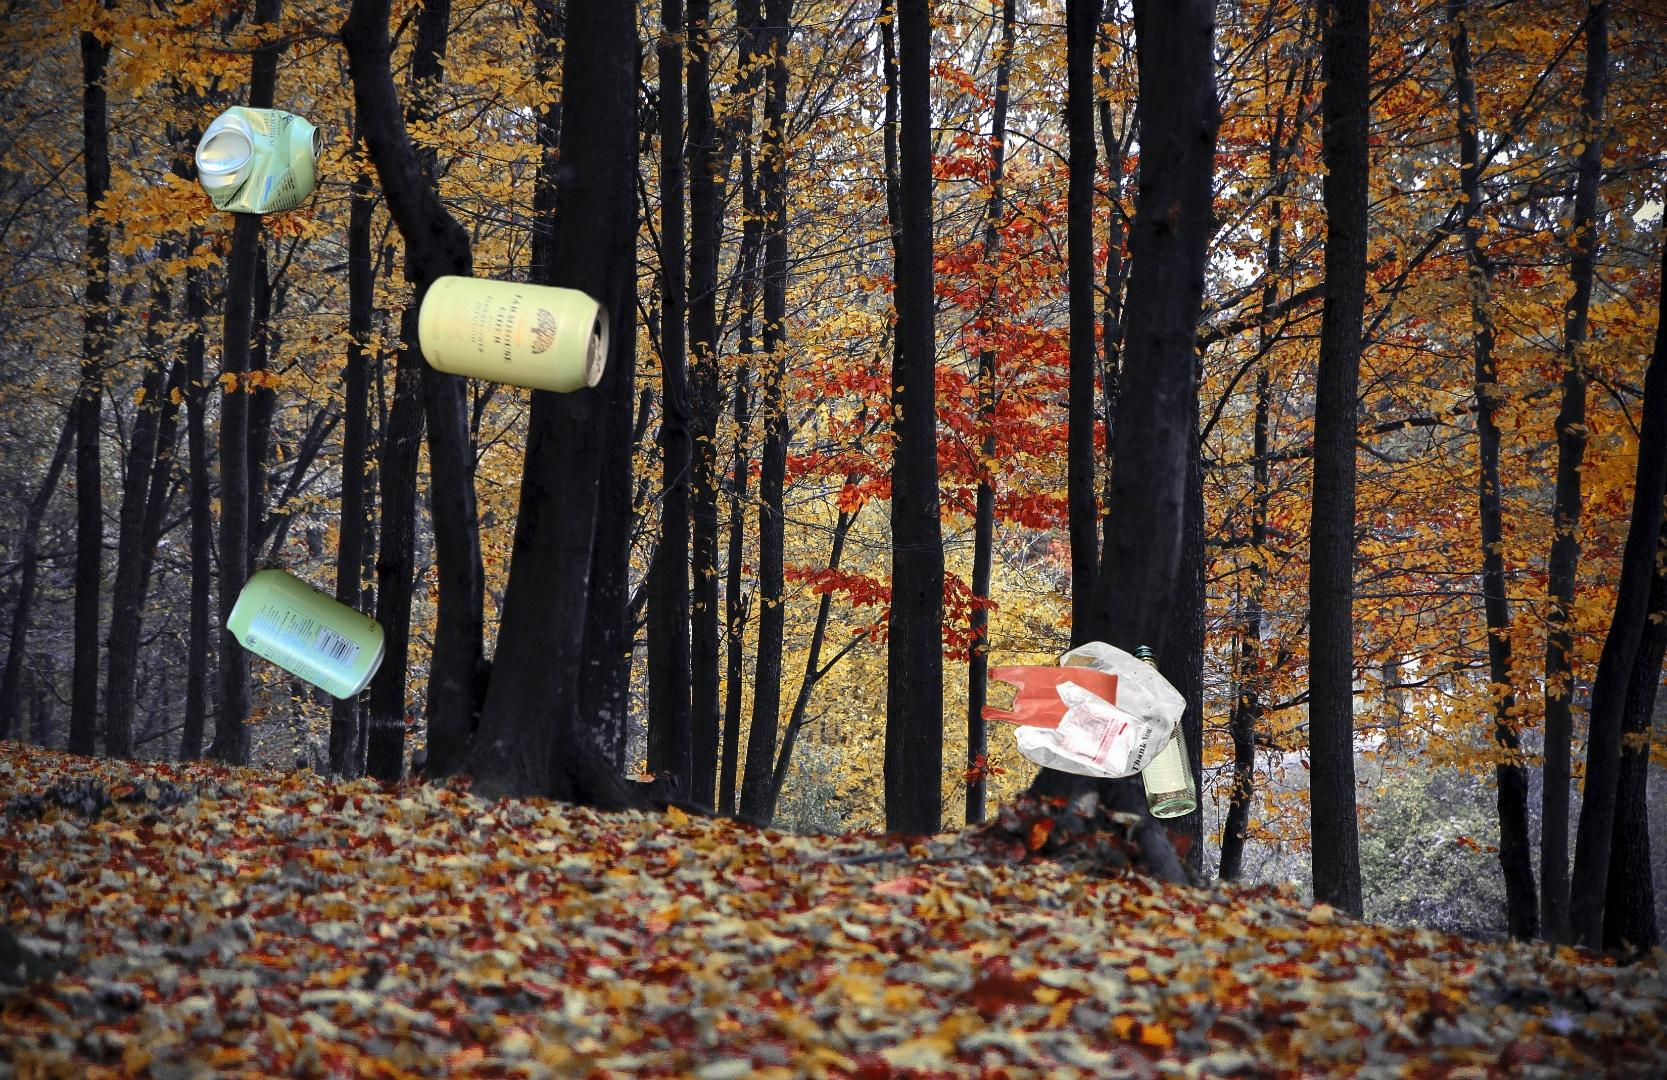glass: (1128, 639, 1200, 827)
metal-cans: (413, 268, 614, 400), (222, 561, 391, 707), (190, 98, 328, 224)
plastic-bag: (977, 638, 1189, 782)
